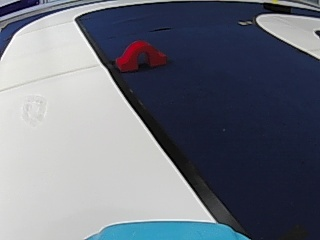bridge: (117, 39, 168, 70)
